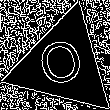O_S: (35, 33, 90, 95)
